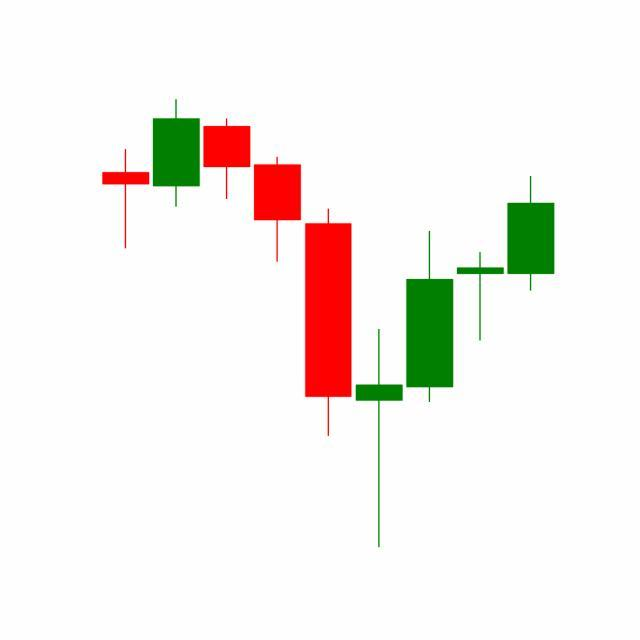Hikkake Pattern: (302, 171, 555, 548)
